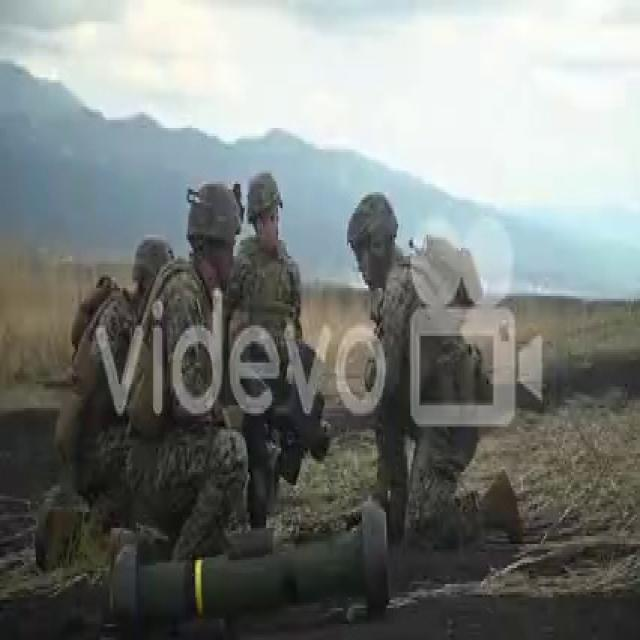bazooka: (108, 486, 396, 640)
